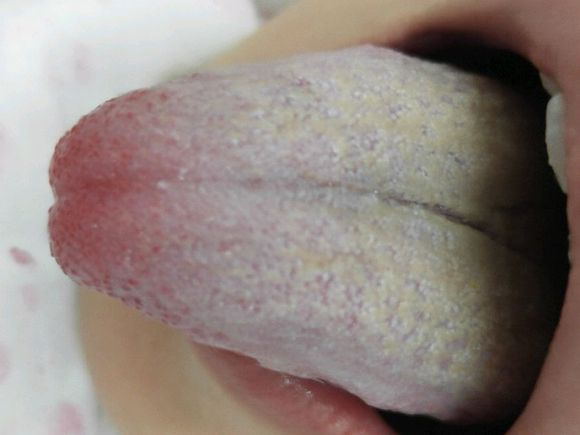hongshe: (48, 43, 555, 427)
huangtaishe: (48, 43, 555, 427)
xinfeiao: (46, 170, 64, 224)
